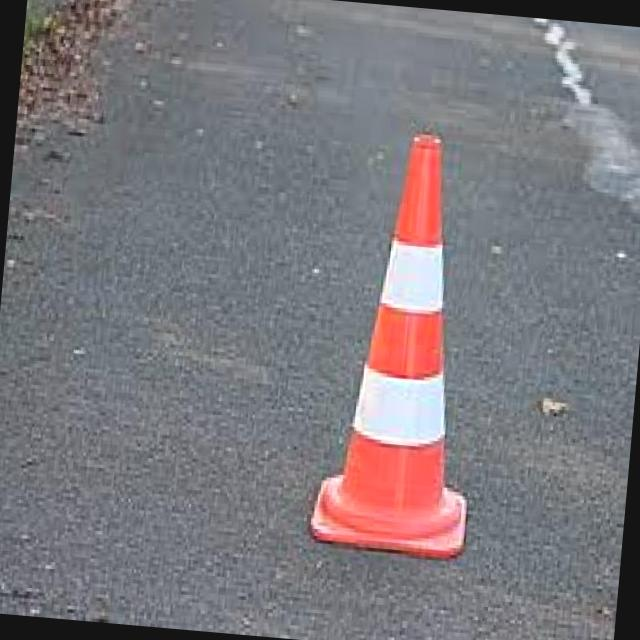Cone: (306, 122, 508, 568)
